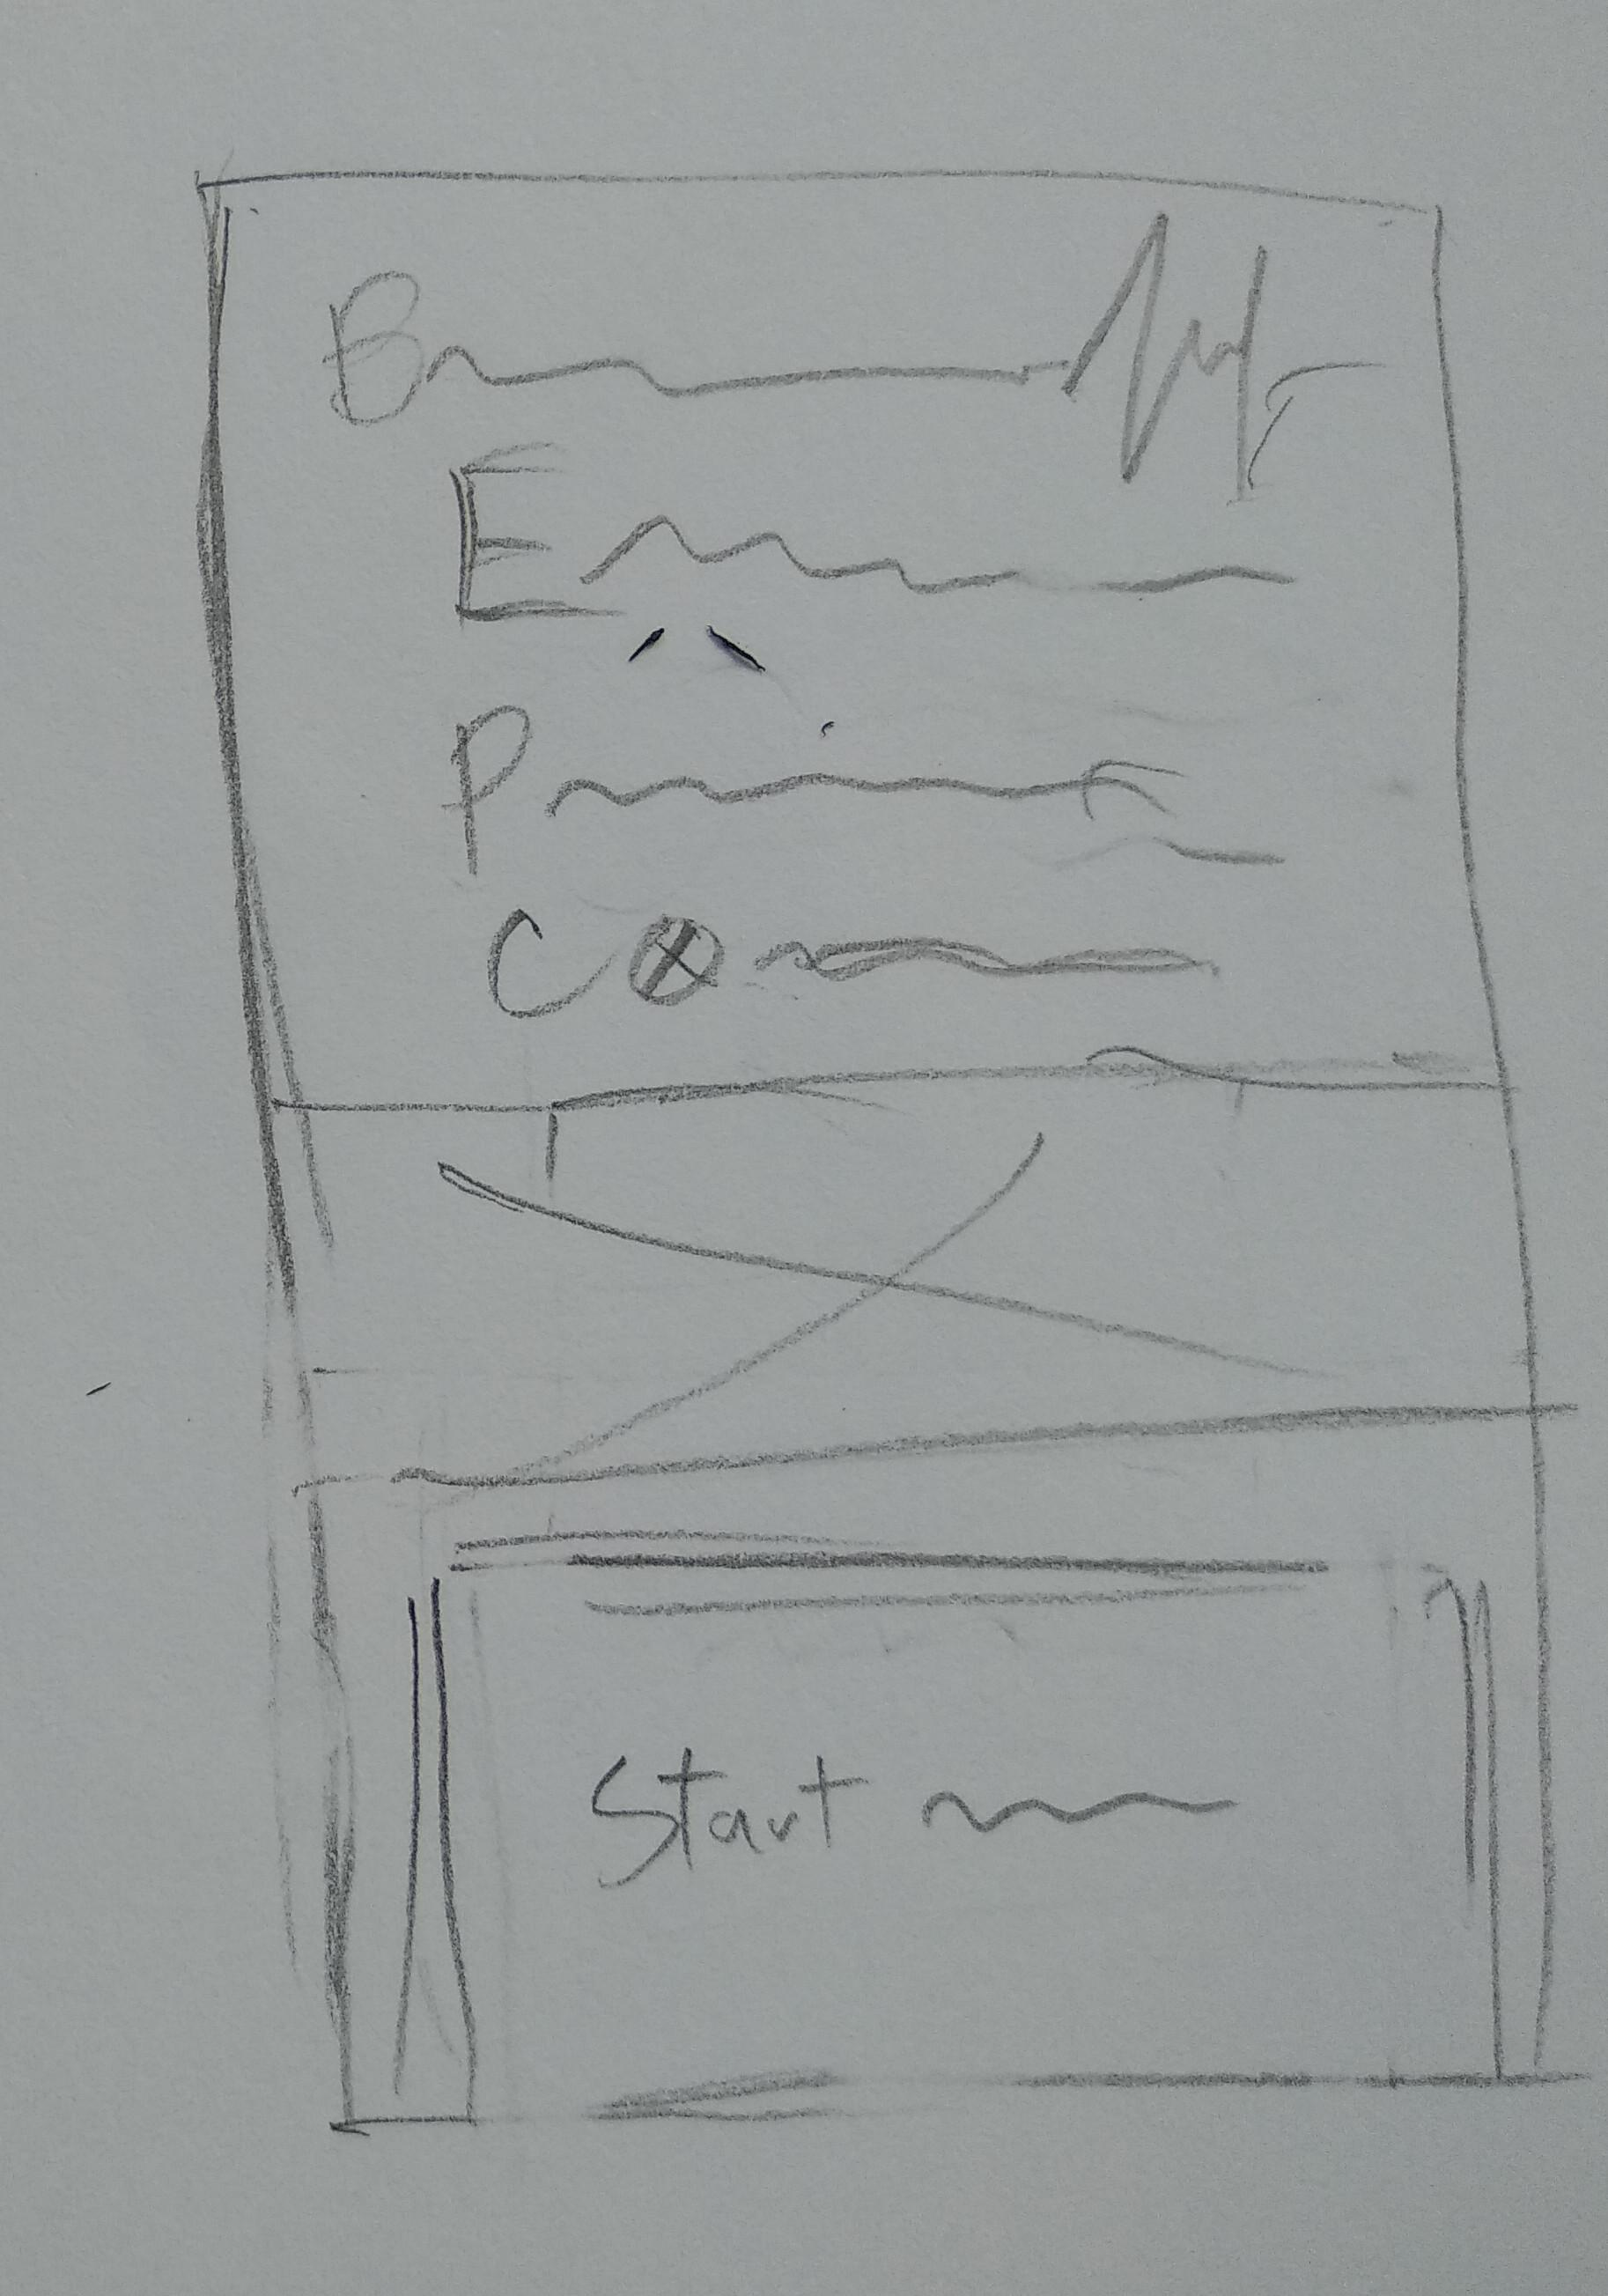Image: (269, 1061, 1540, 1495)
Label: (586, 522, 1301, 618), (434, 328, 1080, 407), (546, 747, 1184, 825), (579, 1739, 877, 1905), (460, 895, 738, 1026), (443, 452, 621, 626), (745, 928, 1221, 987), (305, 255, 438, 433), (912, 1778, 1245, 1841), (433, 703, 544, 879)
Screen: (202, 180, 1554, 2129)
